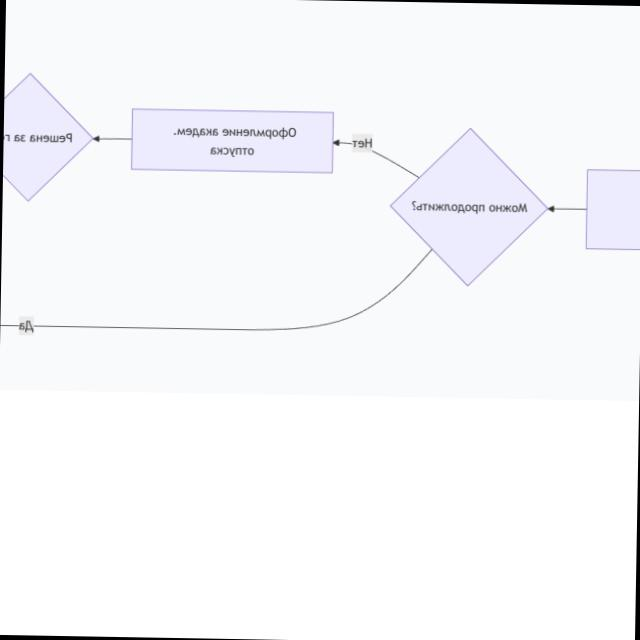arrow: (332, 137, 420, 178), (547, 202, 587, 216), (92, 132, 132, 144)
diamond: (391, 130, 546, 284)
rectangle: (130, 108, 334, 173)
text_region: (352, 136, 372, 150), (18, 320, 34, 334)
